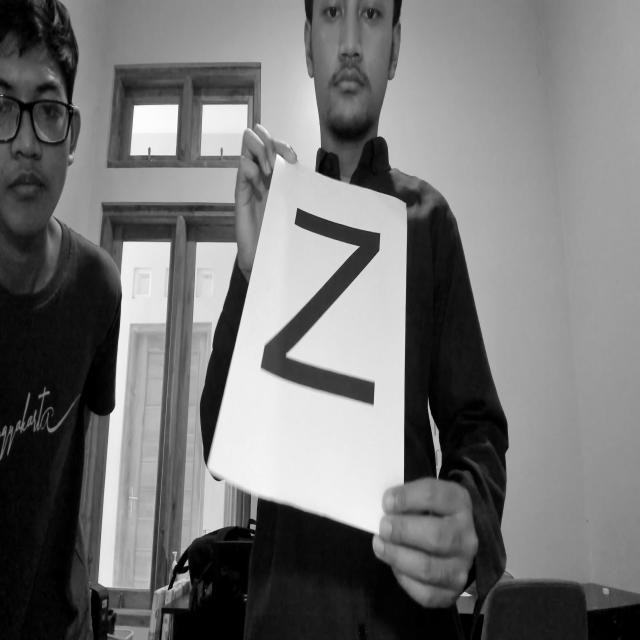z: (256, 191, 383, 411)
